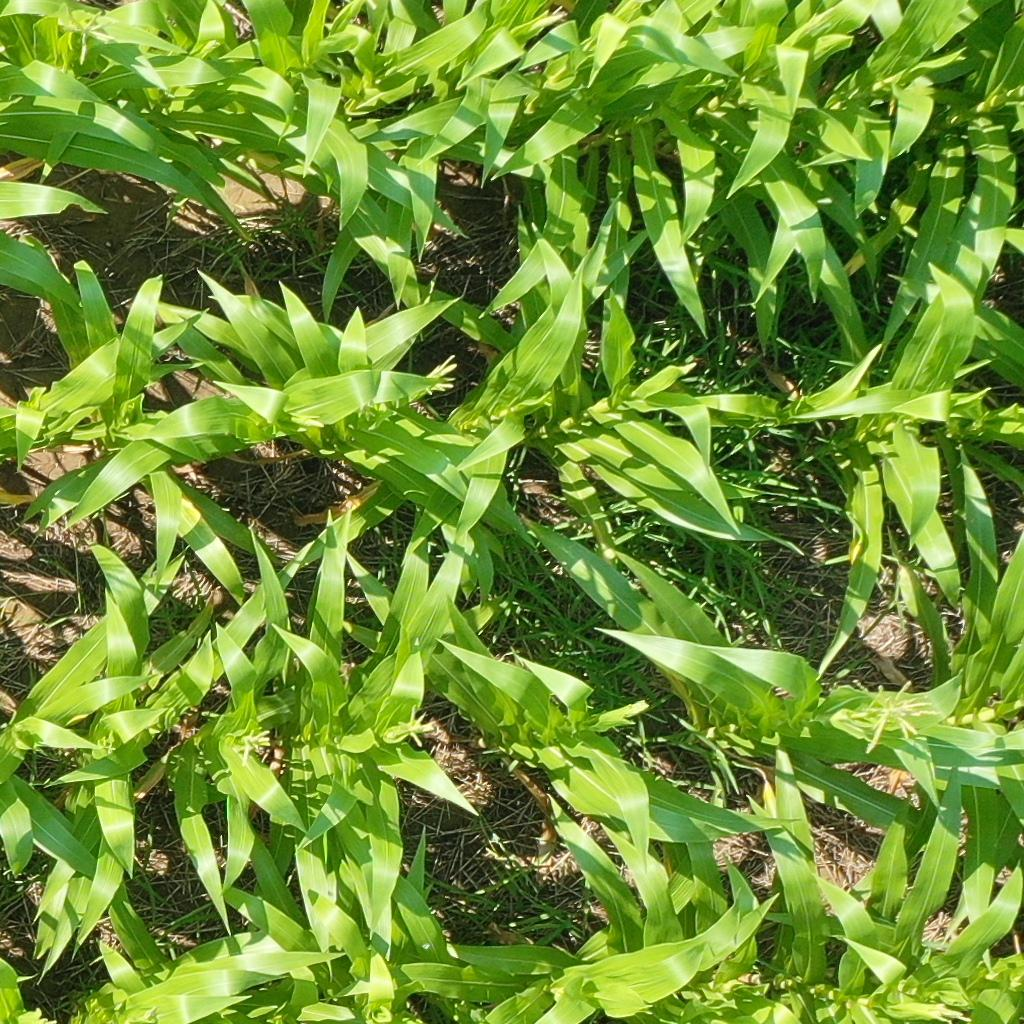Tassel: (847, 677, 933, 753), (59, 4, 116, 70), (384, 704, 434, 749), (418, 354, 460, 404), (236, 723, 273, 768), (795, 6, 841, 39), (911, 1000, 972, 1024), (525, 10, 574, 35), (610, 700, 654, 723)
